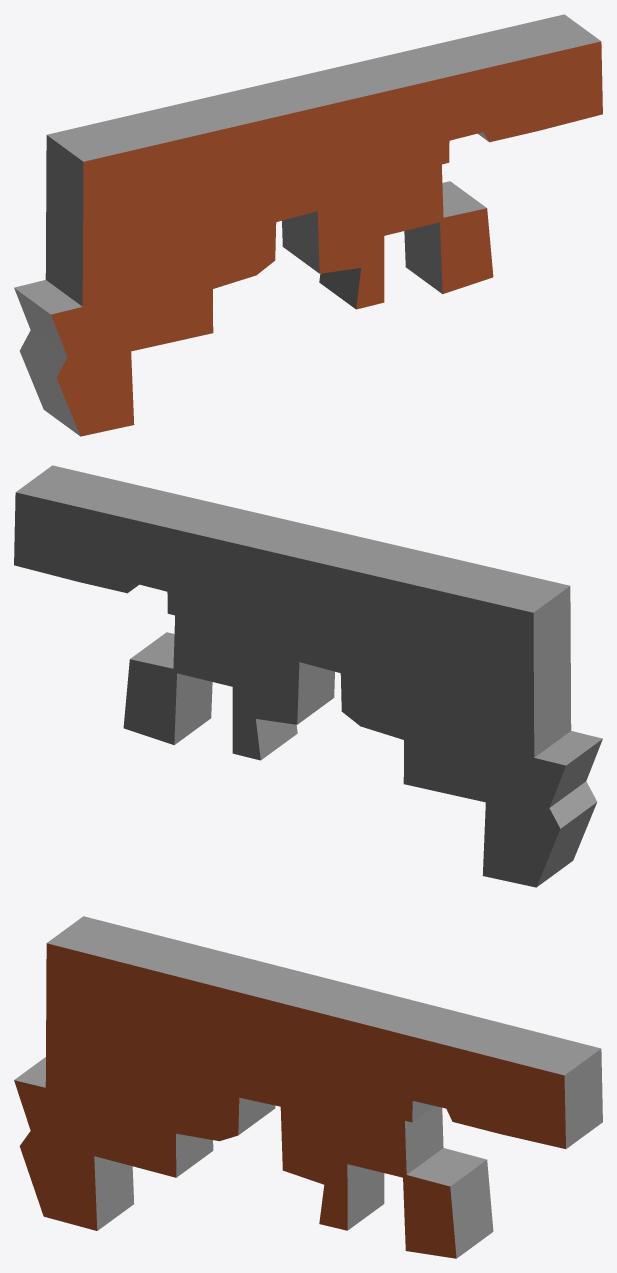
File: construction_2399_assumed_A_Casa_h6m.obj
The picture shows the model from 3 angles, top to bottom: view 1: azimuth 30°, elevation 25°; view 2: azimuth 150°, elevation 25°; view 3: azimuth 330°, elevation 25°; orthographic projection.
Visible parts, largest first — view 1: construction_2399_assumed_A_Casa; view 2: construction_2399_assumed_A_Casa; view 3: construction_2399_assumed_A_Casa.
Part boxes in pixels (box(x1,y1,x2,y2)): construction_2399_assumed_A_Casa: box(14, 14, 602, 436); construction_2399_assumed_A_Casa: box(14, 465, 602, 887); construction_2399_assumed_A_Casa: box(14, 916, 602, 1258).
Size of the model in its own units: 51.83 by 24.72 by 6.
